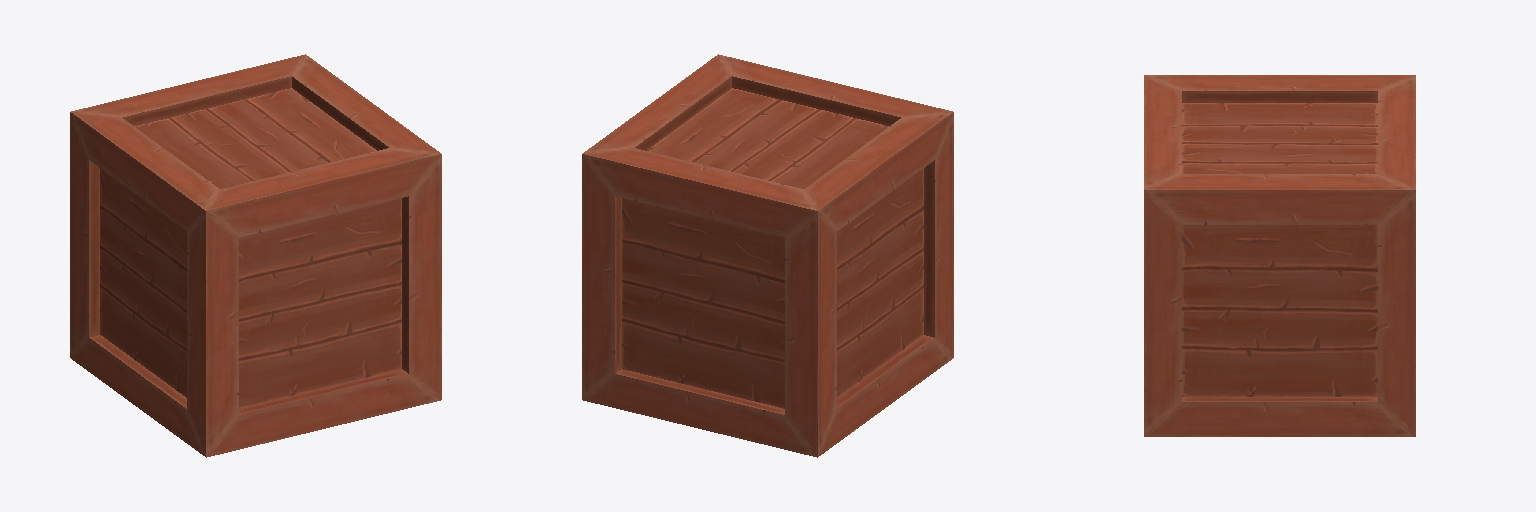
3 views of the same model, side by side, from view 1: azimuth 30°, elevation 25°; view 2: azimuth 150°, elevation 25°; view 3: azimuth 270°, elevation 25° (orthographic).
Parts seen in each view (by area): view 1: crate_Cube.001; view 2: crate_Cube.001; view 3: crate_Cube.001.
Part boxes in pixels (x1,y1,x2,y2): crate_Cube.001: (70,54,441,457); crate_Cube.001: (582,54,953,457); crate_Cube.001: (1144,75,1415,436).
Bounding box in the file's own units: 2 × 2 × 2.
1 materials, 1 textured.